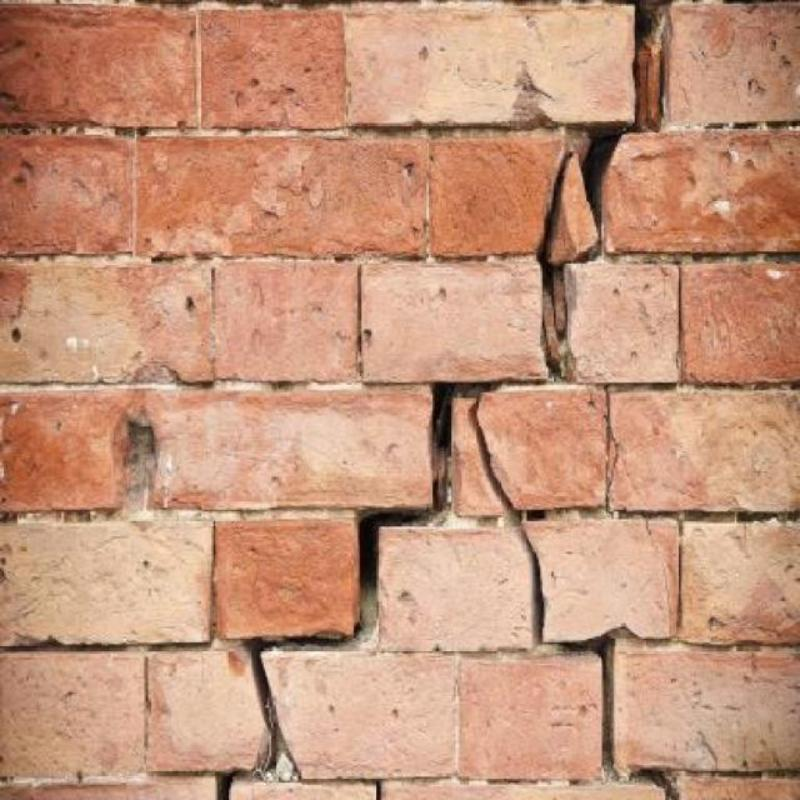crack: (217, 292, 561, 799), (455, 398, 681, 799), (539, 152, 571, 334), (580, 127, 622, 224), (622, 0, 652, 134), (601, 414, 618, 515), (660, 560, 672, 635), (658, 54, 665, 119), (644, 519, 654, 538)
